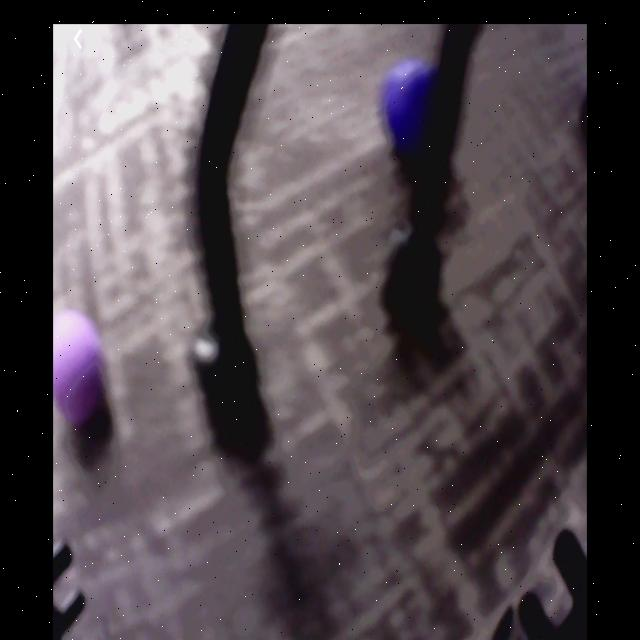ball: (55, 313, 105, 418), (386, 60, 435, 151)
